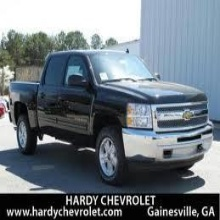no damage: (8, 49, 215, 183)
